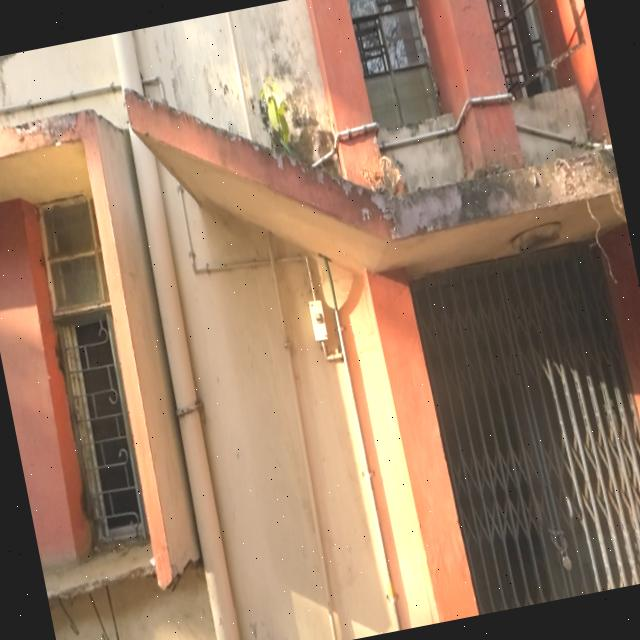spalling: (48, 562, 208, 635)
stain_mould: (431, 154, 620, 227), (250, 76, 334, 165), (259, 76, 291, 154)
